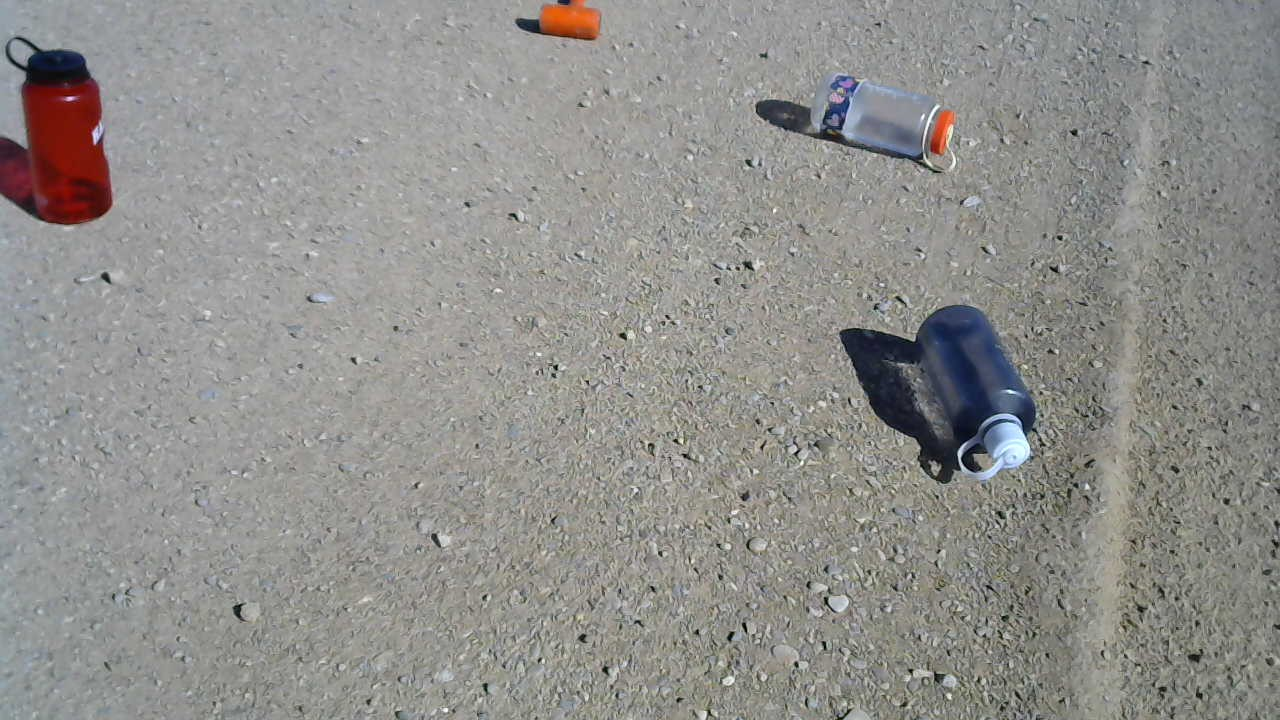bottle: (917, 303, 1040, 486), (4, 36, 115, 226), (809, 65, 959, 175)
hammer: (536, 0, 602, 42)
